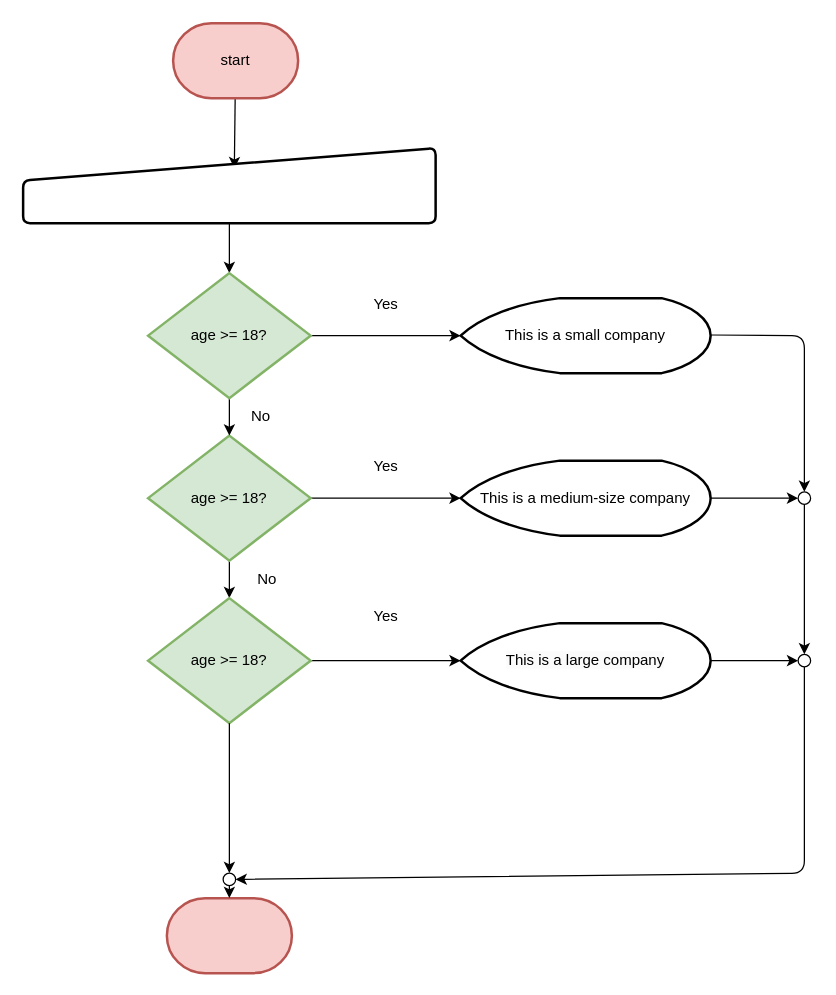
Image size: 836x995. Some labels were removed from this diagram. Here are the shapes that lost their labels. From the top down, the centre of each, then its label:
At point 228,185: "Enter the number of the employess: num_employess".
At point 228,935: "stop".
